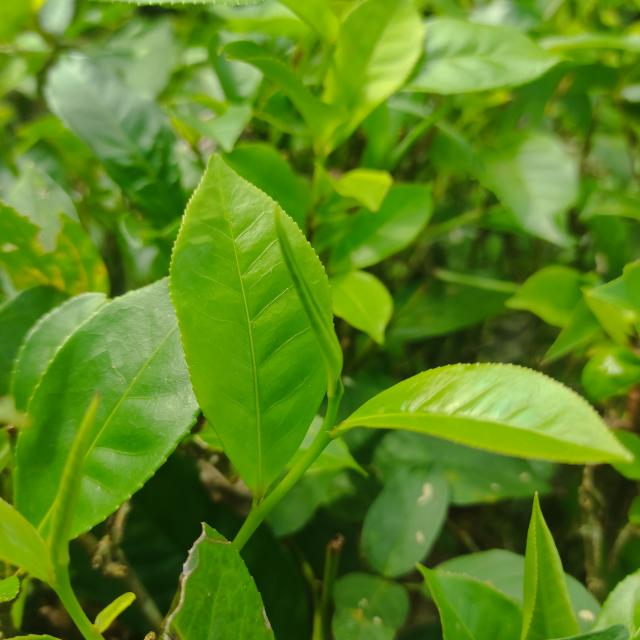unopened_leaf: (253, 194, 364, 436), (26, 374, 124, 608)
